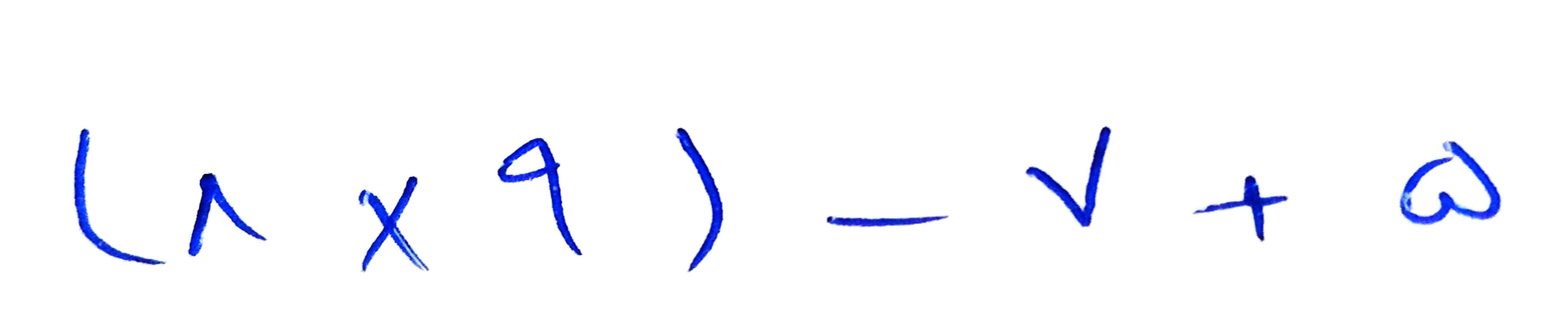character: (75, 127, 167, 266), (498, 135, 584, 255), (1024, 127, 1116, 229), (1401, 139, 1499, 223), (672, 126, 725, 271), (188, 173, 267, 256), (359, 177, 427, 273), (1196, 175, 1289, 238), (825, 213, 952, 227)
